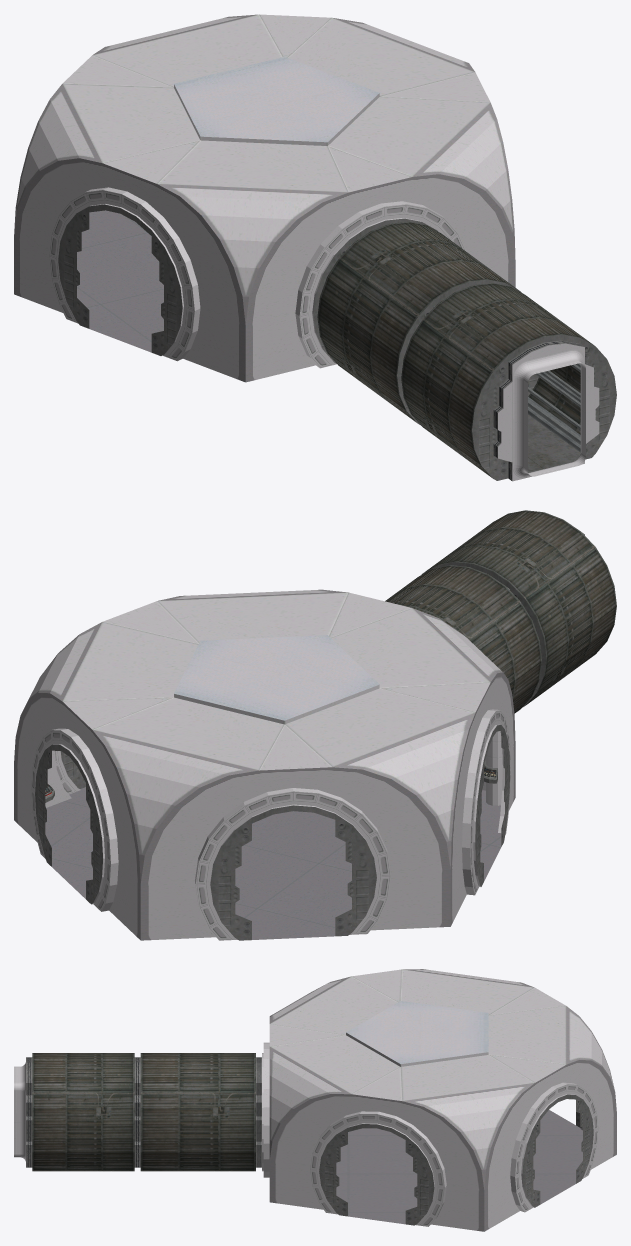
Rendered from thm_spc_corvette_dungeon_r40_pentroom40_mesh_r40.fbx.
3 views of the same model, one above another, from view 1: azimuth 30°, elevation 25°; view 2: azimuth 150°, elevation 25°; view 3: azimuth 270°, elevation 25° (orthographic). The views are drawn at different scales.
Parts seen in each view (by area): view 1: mesh_node; view 2: mesh_node; view 3: mesh_node.
Boxes of the visible parts, x1=… form: mesh_node: x1=14, y1=14, x2=616, y2=481; mesh_node: x1=14, y1=510, x2=616, y2=940; mesh_node: x1=14, y1=969, x2=616, y2=1231.
Bounding box in the file's own units: 12.04 × 4.44 × 19.88.
